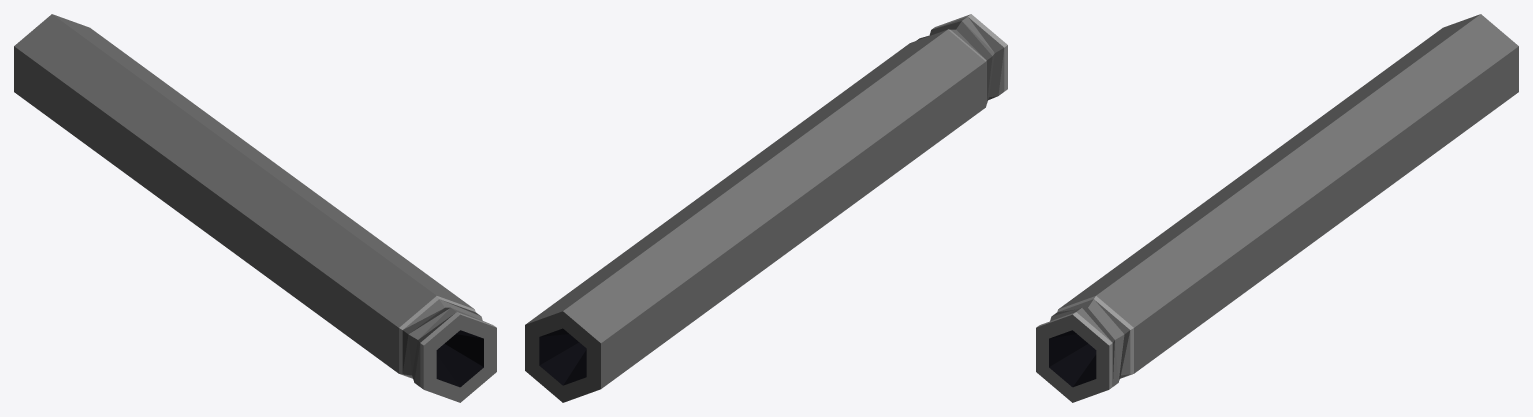
Rendered from MW1_Barrel_9mm_4.5in_02.fbx.
The picture shows the model from 3 angles, left to right: view 1: azimuth 30°, elevation 25°; view 2: azimuth 150°, elevation 25°; view 3: azimuth 330°, elevation 25°; orthographic projection.
Parts seen in each view (by area): view 1: Barrel_9mm_4.5in_02; view 2: Barrel_9mm_4.5in_02; view 3: Barrel_9mm_4.5in_02.
Boxes of the visible parts, x1,y1,x2,y2 form: Barrel_9mm_4.5in_02: (14,14,496,402); Barrel_9mm_4.5in_02: (525,14,1007,402); Barrel_9mm_4.5in_02: (1036,14,1518,402).
Bounding box in the file's own units: 1.25 × 1.44 × 11.61.
